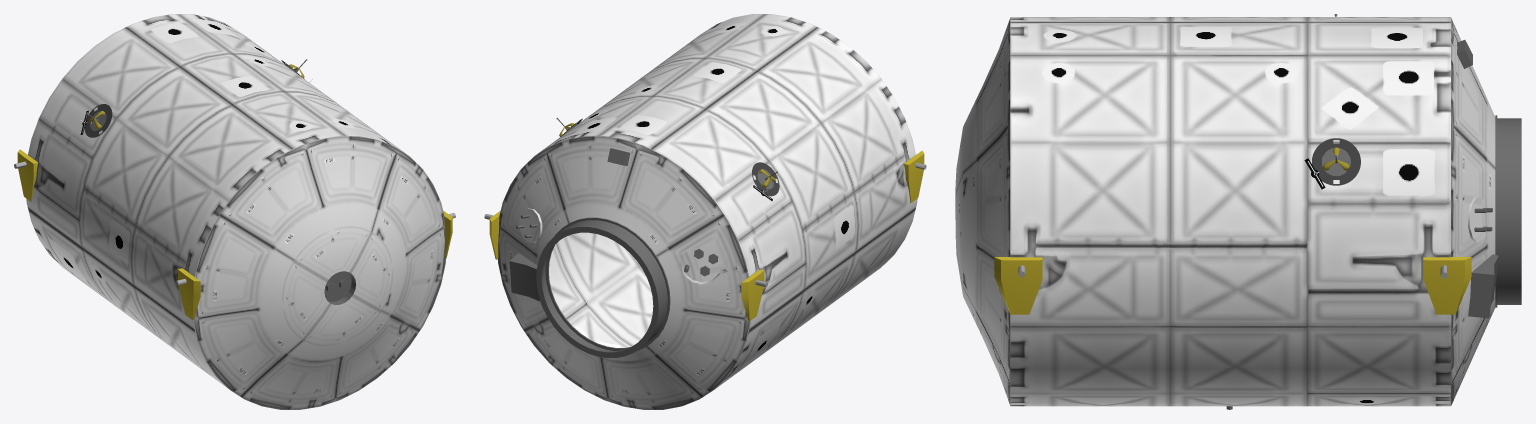
File: PMM.FBX
3 renders of one model, left to right at view 1: azimuth 30°, elevation 25°; view 2: azimuth 150°, elevation 25°; view 3: azimuth 270°, elevation 25°, orthographic. The views are drawn at different scales.
Visible parts, largest first — view 1: PMM; view 2: PMM; view 3: PMM.
Part boxes in pixels (bbox=[...]): PMM: bbox=[14, 14, 455, 409]; PMM: bbox=[484, 14, 926, 409]; PMM: bbox=[955, 14, 1521, 409].
Bounding box in the file's own units: 4.93 × 4.73 × 6.51.
Materials: 10 (3 with a texture image).
